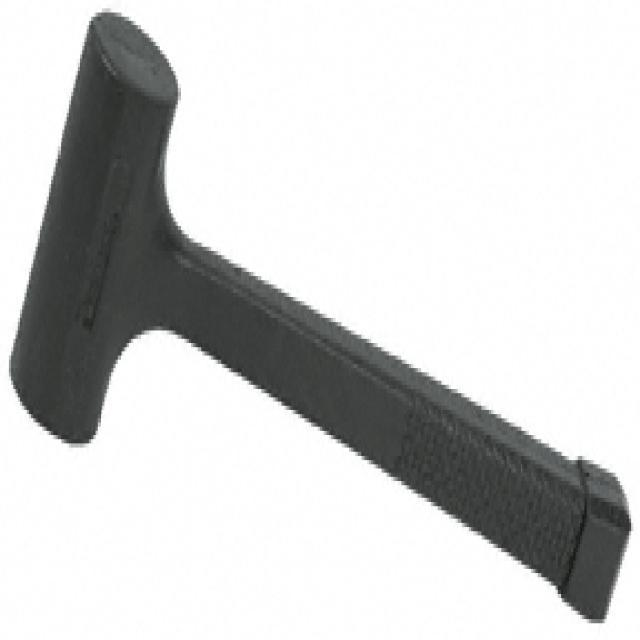hammer: (3, 5, 632, 633)
